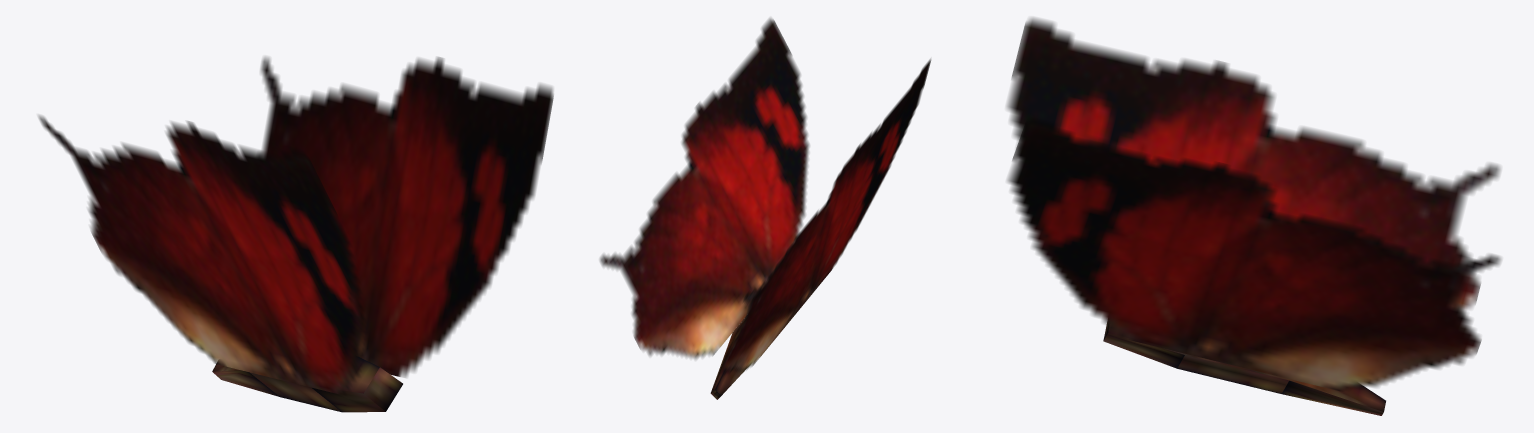
3 views of the same model, side by side, from view 1: azimuth 30°, elevation 25°; view 2: azimuth 150°, elevation 25°; view 3: azimuth 270°, elevation 25° (orthographic). The views are drawn at different scales.
Parts seen in each view (by area): view 1: root; view 2: root; view 3: root.
Boxes of the visible parts, x1,y1,x2,y2 form: root: (38, 57, 553, 412); root: (600, 18, 930, 399); root: (1006, 17, 1501, 415).
Bounding box in the file's own units: 0.3809 × 0.6043 × 0.8677.
2 materials, 2 textured.
